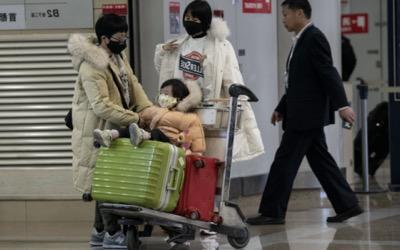with_mask: (106, 33, 128, 55), (182, 15, 202, 36), (157, 89, 176, 109)
without_mask: (280, 9, 297, 33)
